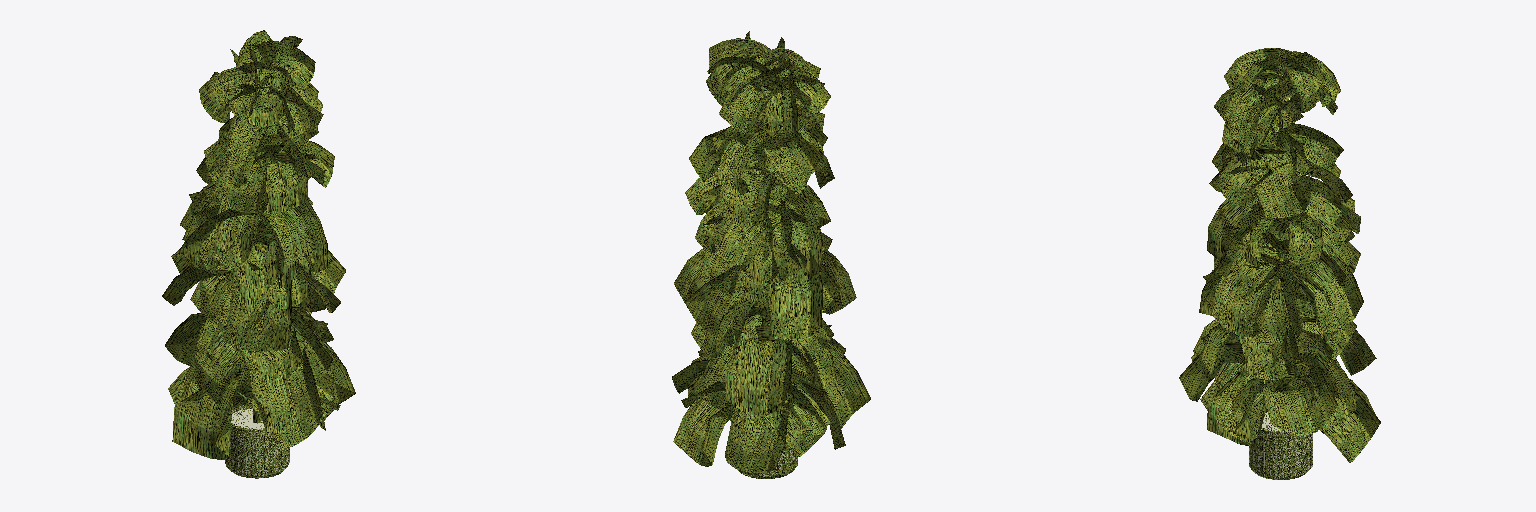
The picture shows the model from 3 angles: view 1: azimuth 30°, elevation 25°; view 2: azimuth 150°, elevation 25°; view 3: azimuth 270°, elevation 25°; orthographic projection.
Parts seen in each view (by area): view 1: mesh87_mesh87-geometry, mesh80_mesh80-geometry, mesh40_mesh40-geometry, mesh89_mesh89-geometry, mesh92_mesh92-geometry, mesh3_mesh3-geometry, mesh67_mesh67-geometry, mesh53_mesh53-geometry, mesh70_mesh70-geometry, mesh19_mesh19-geometry, mesh82_mesh82-geometry, mesh83_mesh83-geometry (+24 smaller); view 2: mesh55_mesh55-geometry, mesh76_mesh76-geometry, mesh39_mesh39-geometry, mesh87_mesh87-geometry, mesh83_mesh83-geometry, mesh26_mesh26-geometry, mesh46_mesh46-geometry, mesh47_mesh47-geometry, mesh68_mesh68-geometry, mesh86_mesh86-geometry, mesh59_mesh59-geometry, mesh11_mesh11-geometry (+23 smaller); view 3: mesh86_mesh86-geometry, mesh78_mesh78-geometry, mesh92_mesh92-geometry, mesh84_mesh84-geometry, mesh80_mesh80-geometry, mesh21_mesh21-geometry, mesh42_mesh42-geometry, mesh90_mesh90-geometry, mesh26_mesh26-geometry, mesh79_mesh79-geometry, mesh2_mesh2-geometry, mesh85_mesh85-geometry (+24 smaller).
Boxes of the visible parts, <box> form: mesh87_mesh87-geometry: <box>172,351,256,459</box>; mesh80_mesh80-geometry: <box>255,199,327,287</box>; mesh40_mesh40-geometry: <box>223,270,291,351</box>; mesh89_mesh89-geometry: <box>234,346,320,433</box>; mesh92_mesh92-geometry: <box>225,403,289,478</box>; mesh3_mesh3-geometry: <box>186,328,253,403</box>; mesh67_mesh67-geometry: <box>254,130,307,212</box>; mesh53_mesh53-geometry: <box>224,308,332,392</box>; mesh70_mesh70-geometry: <box>237,41,315,92</box>; mesh19_mesh19-geometry: <box>211,141,285,212</box>; mesh82_mesh82-geometry: <box>213,193,264,270</box>; mesh83_mesh83-geometry: <box>179,182,264,265</box>; mesh55_mesh55-geometry: <box>725,325,792,414</box>; mesh76_mesh76-geometry: <box>725,386,795,473</box>; mesh39_mesh39-geometry: <box>766,264,822,339</box>; mesh87_mesh87-geometry: <box>790,342,870,449</box>; mesh83_mesh83-geometry: <box>765,188,822,283</box>; mesh26_mesh26-geometry: <box>673,398,733,466</box>; mesh46_mesh46-geometry: <box>717,155,774,226</box>; mesh47_mesh47-geometry: <box>713,209,794,265</box>; mesh68_mesh68-geometry: <box>747,130,819,185</box>; mesh86_mesh86-geometry: <box>674,248,746,320</box>; mesh59_mesh59-geometry: <box>719,81,790,133</box>; mesh11_mesh11-geometry: <box>696,290,757,349</box>; mesh86_mesh86-geometry: <box>1261,253,1363,333</box>; mesh78_mesh78-geometry: <box>1263,365,1337,435</box>; mesh92_mesh92-geometry: <box>1249,411,1312,479</box>; mesh84_mesh84-geometry: <box>1212,255,1303,336</box>; mesh80_mesh80-geometry: <box>1207,198,1264,277</box>; mesh21_mesh21-geometry: <box>1246,127,1310,217</box>; mesh42_mesh42-geometry: <box>1240,262,1302,343</box>; mesh90_mesh90-geometry: <box>1207,362,1268,445</box>; mesh26_mesh26-geometry: <box>1266,391,1380,462</box>; mesh79_mesh79-geometry: <box>1216,361,1309,441</box>; mesh2_mesh2-geometry: <box>1285,122,1343,179</box>; mesh85_mesh85-geometry: <box>1227,238,1314,296</box>.
Bounding box in the file's own units: 0.3445 × 0.861 × 0.3742.
Materials: 5 (1 with a texture image).